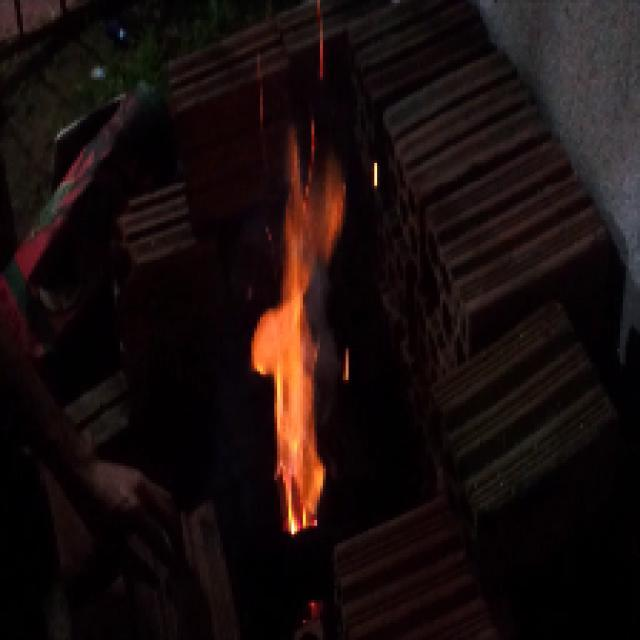Fire: (256, 144, 349, 528)
